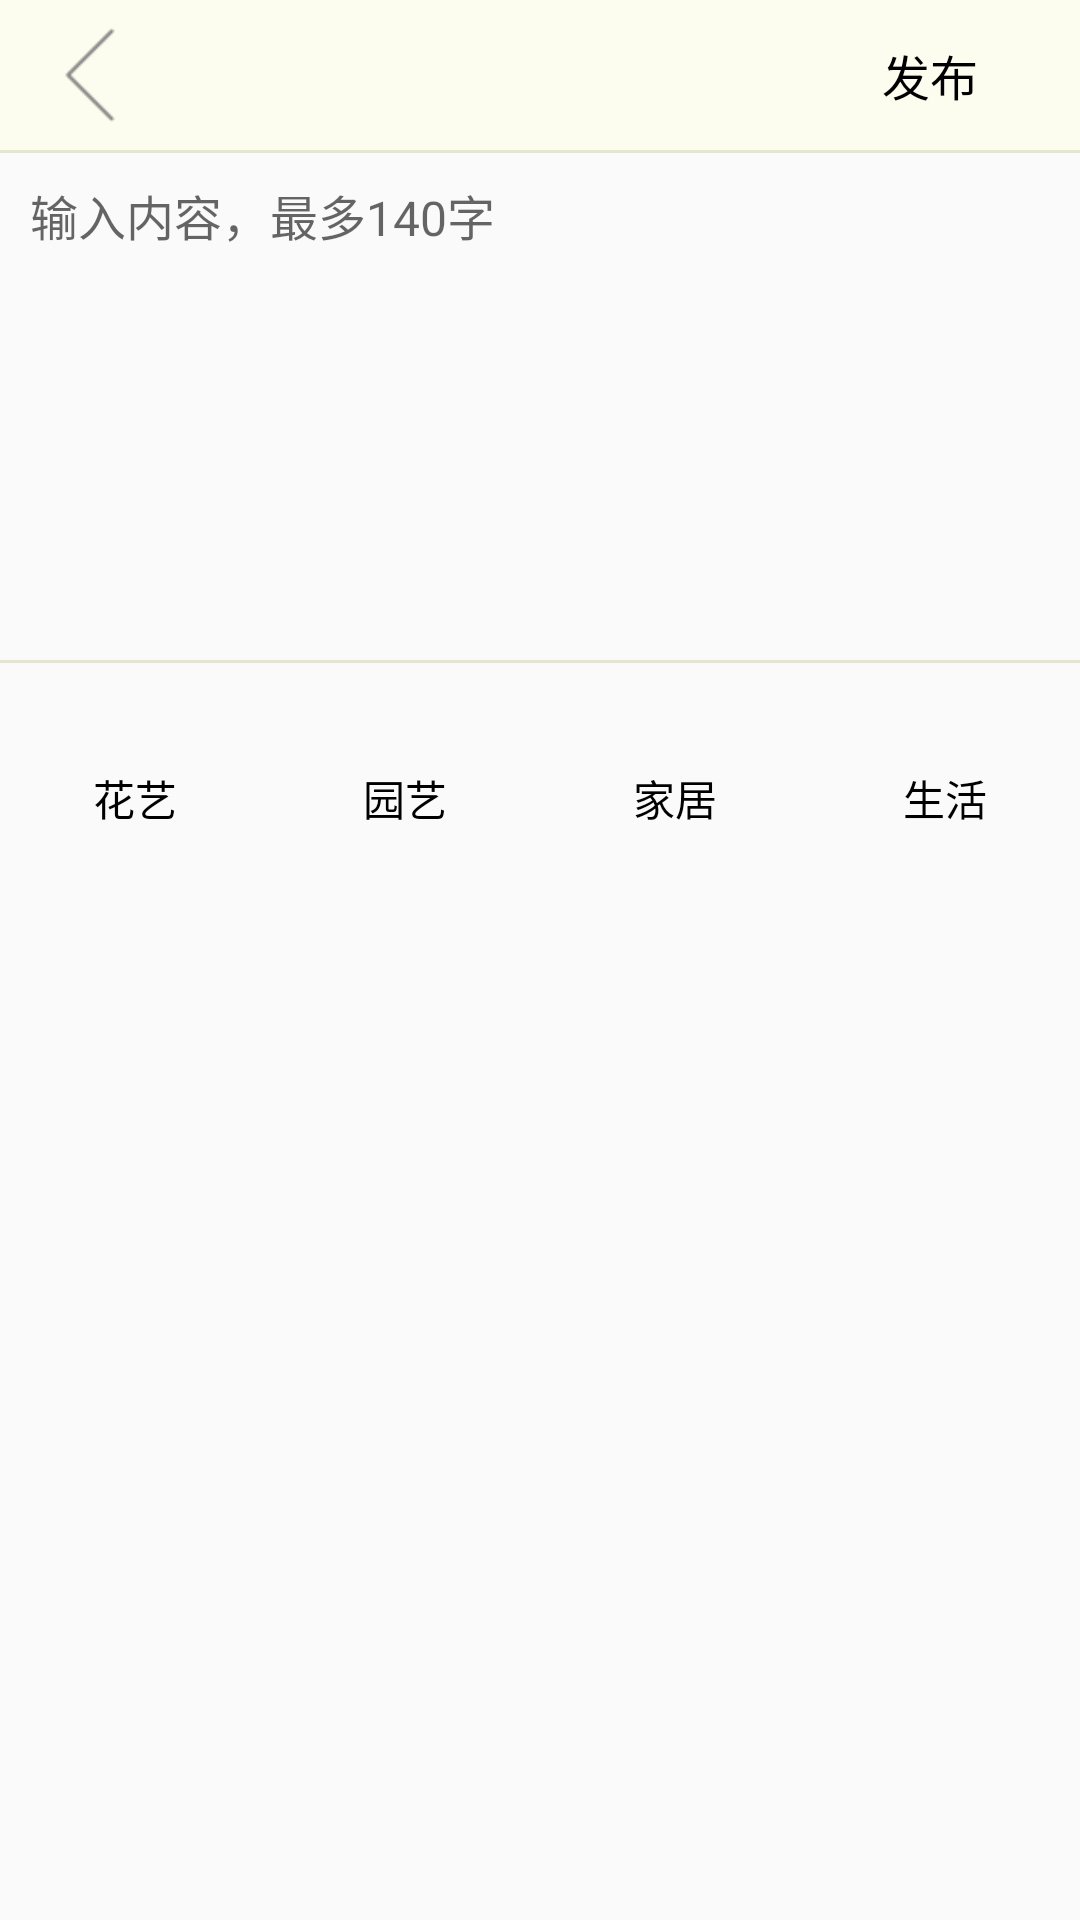

Icon bounding boxes for this 1080x1920 phone screenshot, format (x1, y1, x2, y2):
back: (65, 29, 114, 121)
